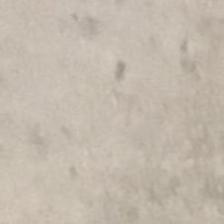Non_Crack: (34, 20, 214, 182)
